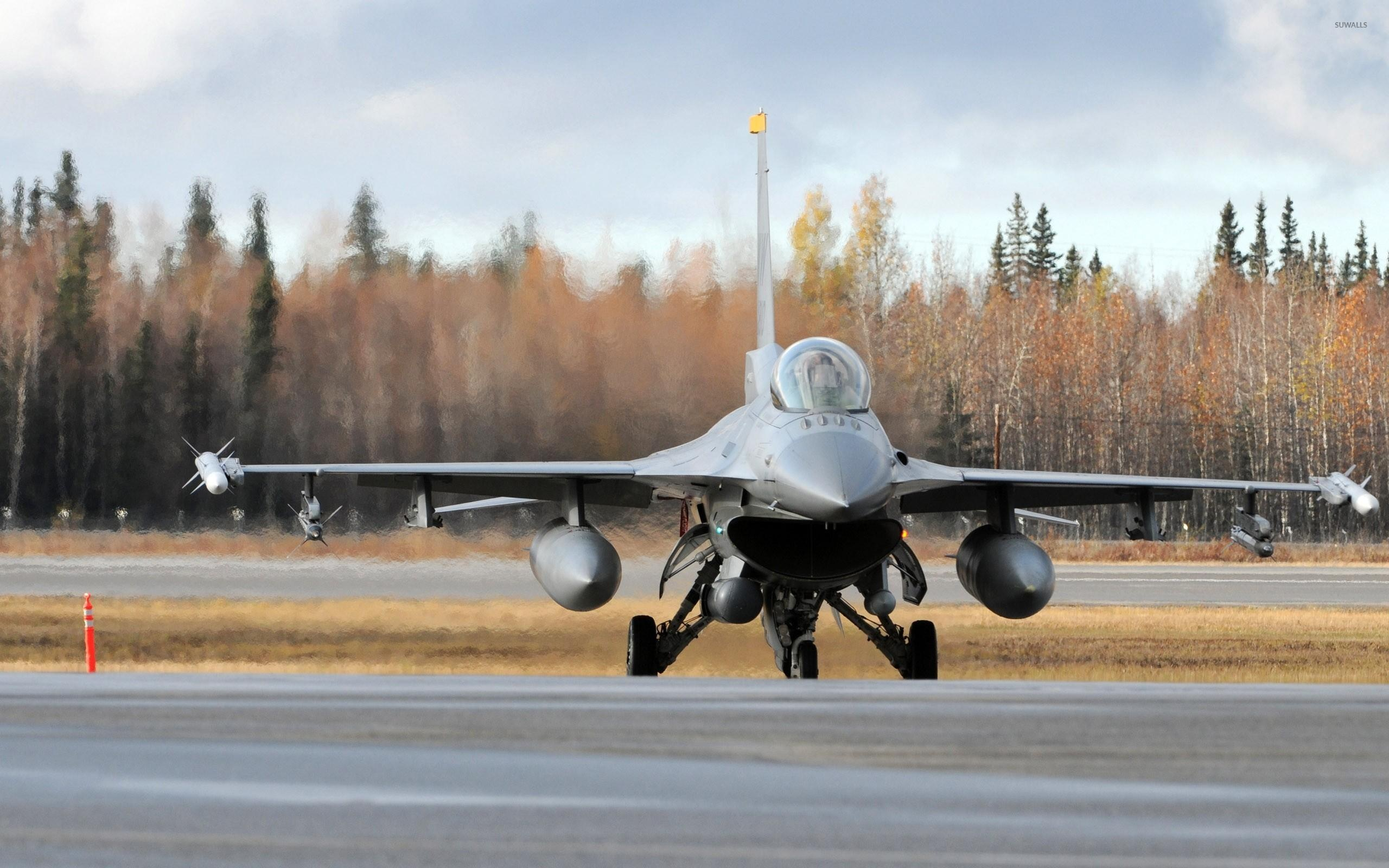aircraft: (156, 109, 1386, 684)
